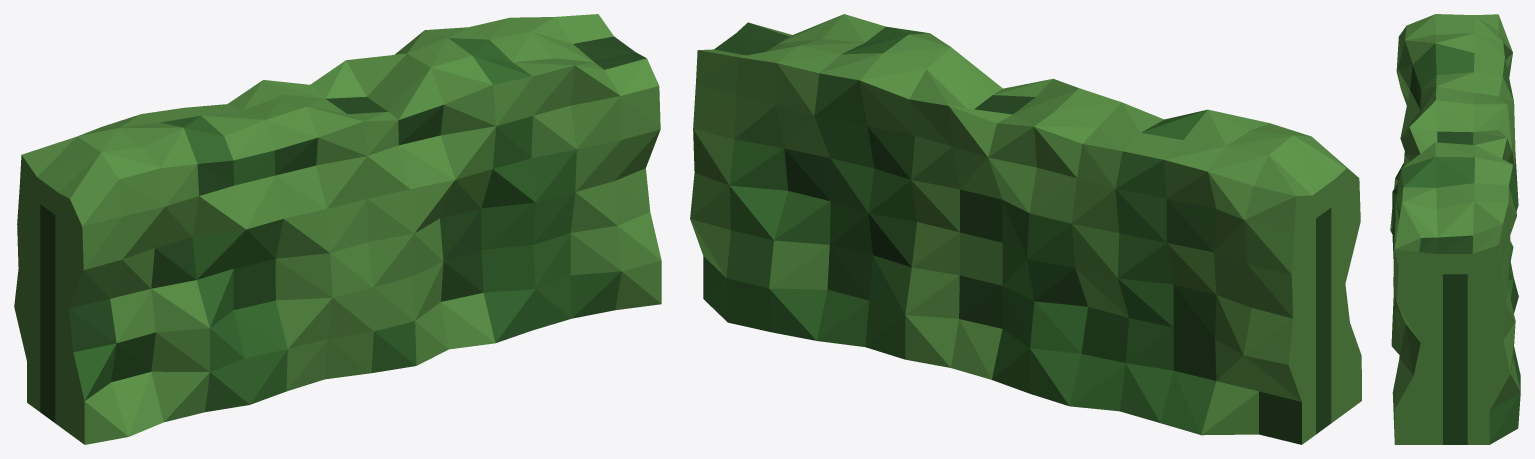
File: clipped-hedge-section-11a067.glb
3 views of the same model, side by side, from view 1: azimuth 30°, elevation 25°; view 2: azimuth 150°, elevation 25°; view 3: azimuth 270°, elevation 25° (orthographic). The views are drawn at different scales.
Visible parts, largest first — view 1: clipped-hedge-section; view 2: clipped-hedge-section; view 3: clipped-hedge-section.
Boxes of the visible parts, x1,y1,x2,y2 form: clipped-hedge-section: (14,14,661,444); clipped-hedge-section: (690,14,1361,444); clipped-hedge-section: (1390,14,1520,444).
Bounding box in the file's own units: 2 × 0.8968 × 0.4781.
